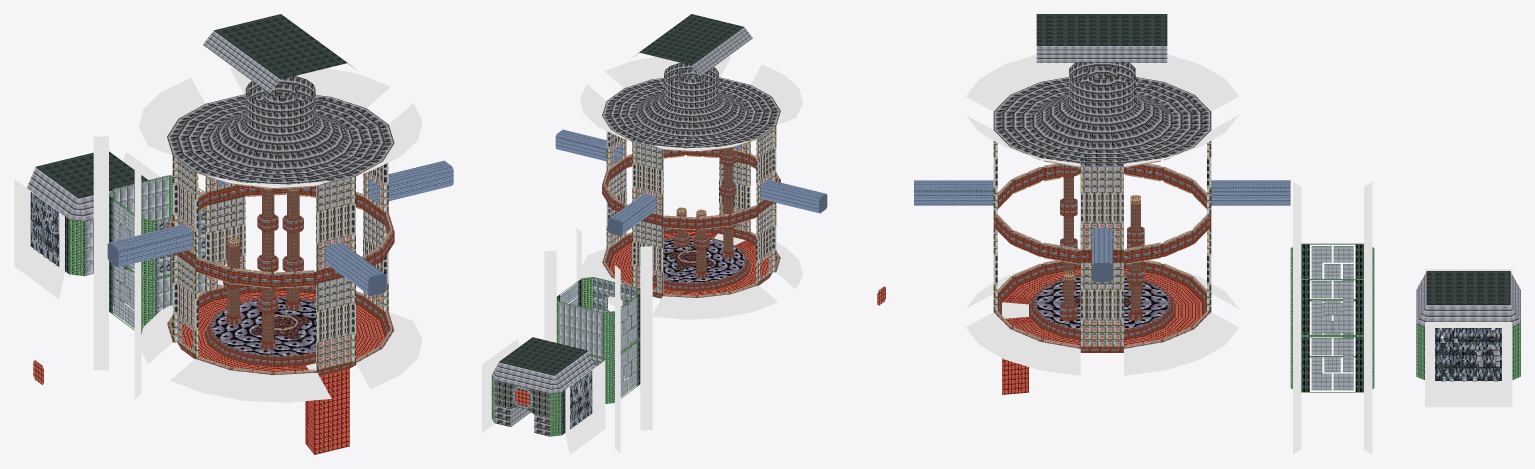
File: CannonsCoreRouge.obj
3 renders of one model, left to right at view 1: azimuth 30°, elevation 25°; view 2: azimuth 150°, elevation 25°; view 3: azimuth 270°, elevation 25°, orthographic. The views are drawn at different scales.
Size of the model in its own units: 1100 by 1060 by 1450.
Materials: 26 (26 with a texture image).
